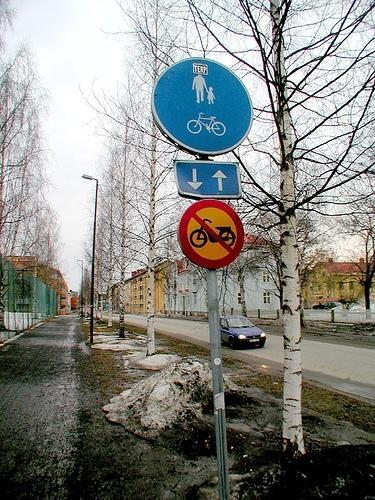bicycle: (187, 113, 226, 138)
car: (219, 314, 266, 349), (324, 302, 343, 310), (313, 302, 325, 310)
